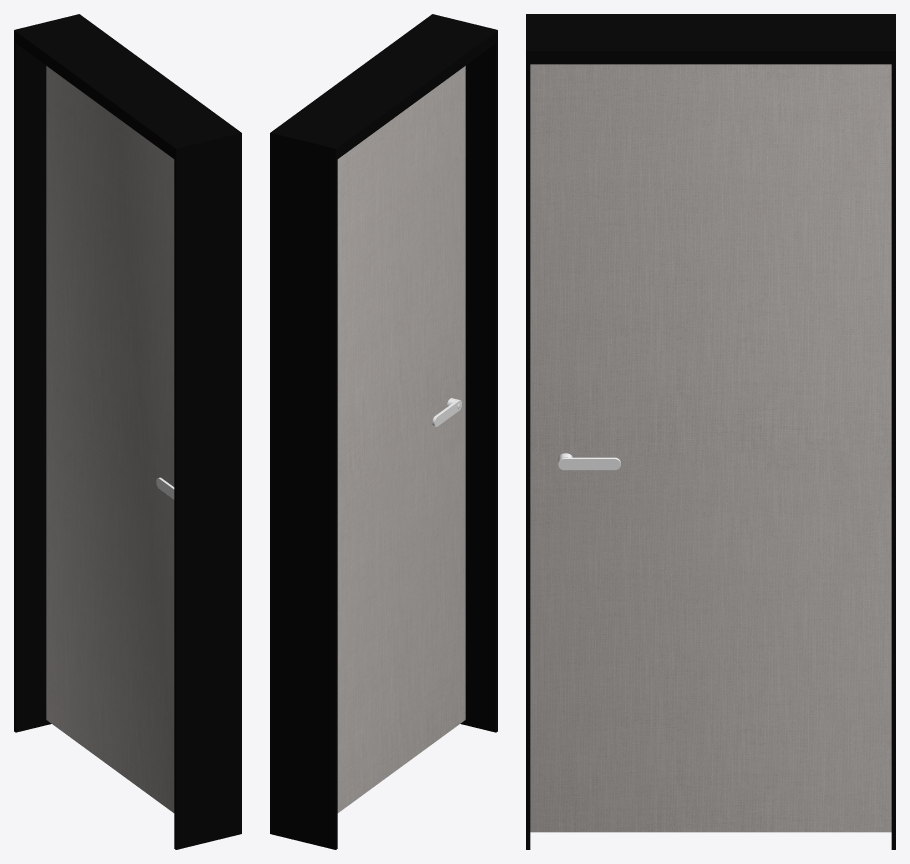
Rendered from YMJ-门.fbx.
The picture shows the model from 3 angles, left to right: view 1: azimuth 30°, elevation 25°; view 2: azimuth 150°, elevation 25°; view 3: azimuth 270°, elevation 25°; orthographic projection. The views are drawn at different scales.
Parts seen in each view (by area): view 1: YMJ-门; view 2: YMJ-门; view 3: YMJ-门.
Boxes of the visible parts, <box> form: YMJ-门: <box>14,14,241,849</box>; YMJ-门: <box>270,14,497,849</box>; YMJ-门: <box>526,14,895,849</box>.
Size of the model in its own units: 0.1971 by 0.84 by 2.
